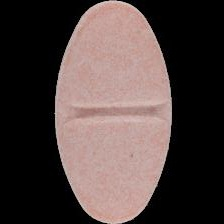63187-698: (0, 0, 224, 224)
